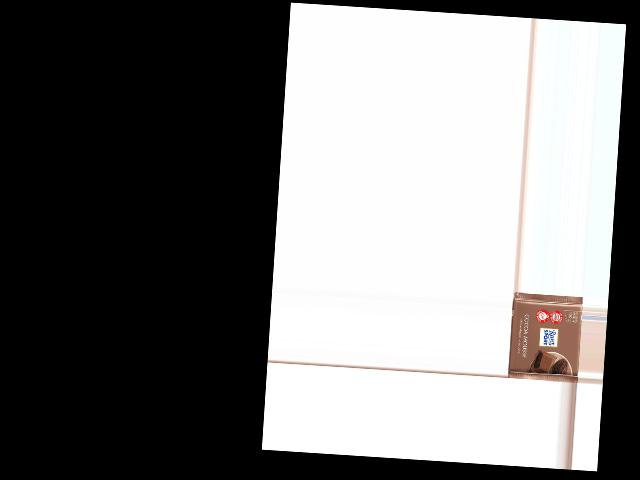chocolate: (506, 293, 582, 382)
